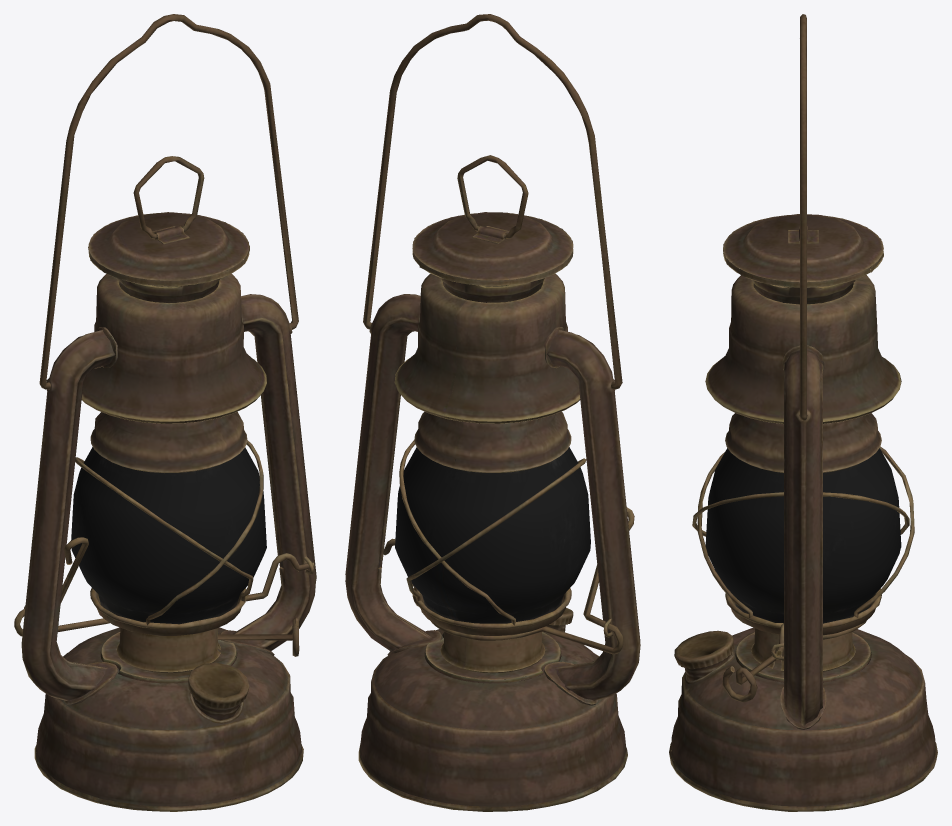
File: lantern.glb
3 views of the same model, side by side, from view 1: azimuth 30°, elevation 25°; view 2: azimuth 150°, elevation 25°; view 3: azimuth 270°, elevation 25° (orthographic).
Parts seen in each view (by area): view 1: Lantern_01, Lantern_01_glass; view 2: Lantern_01, Lantern_01_glass; view 3: Lantern_01, Lantern_01_glass.
Part boxes in pixels (<box>): Lantern_01: <box>14,14,316,811</box>; Lantern_01_glass: <box>71,447,266,624</box>; Lantern_01: <box>345,14,640,811</box>; Lantern_01_glass: <box>395,447,590,623</box>; Lantern_01: <box>669,14,937,811</box>; Lantern_01_glass: <box>705,448,901,623</box>.
Size of the model in its own units: 0.1869 by 0.45 by 0.1486.
2 materials, 2 textured.
